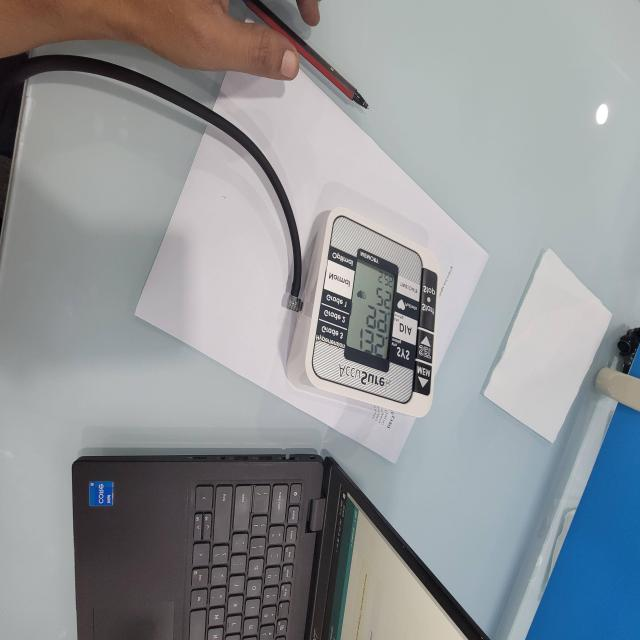bp: (288, 220, 462, 412)
